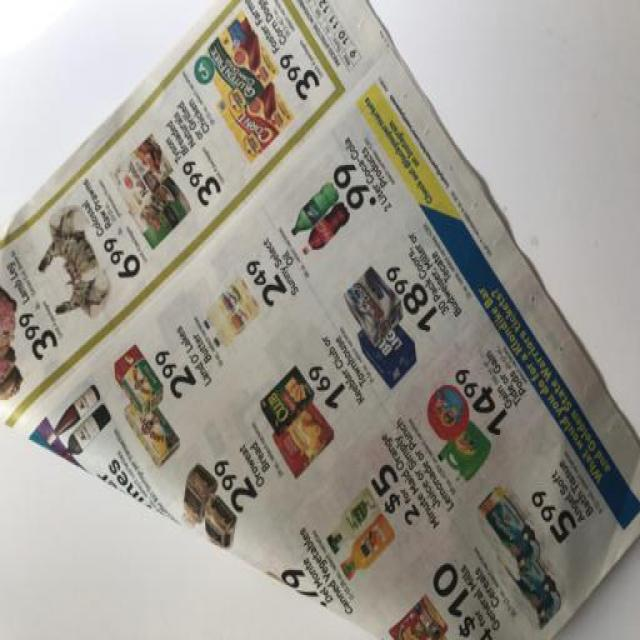paper: (4, 1, 640, 637)
